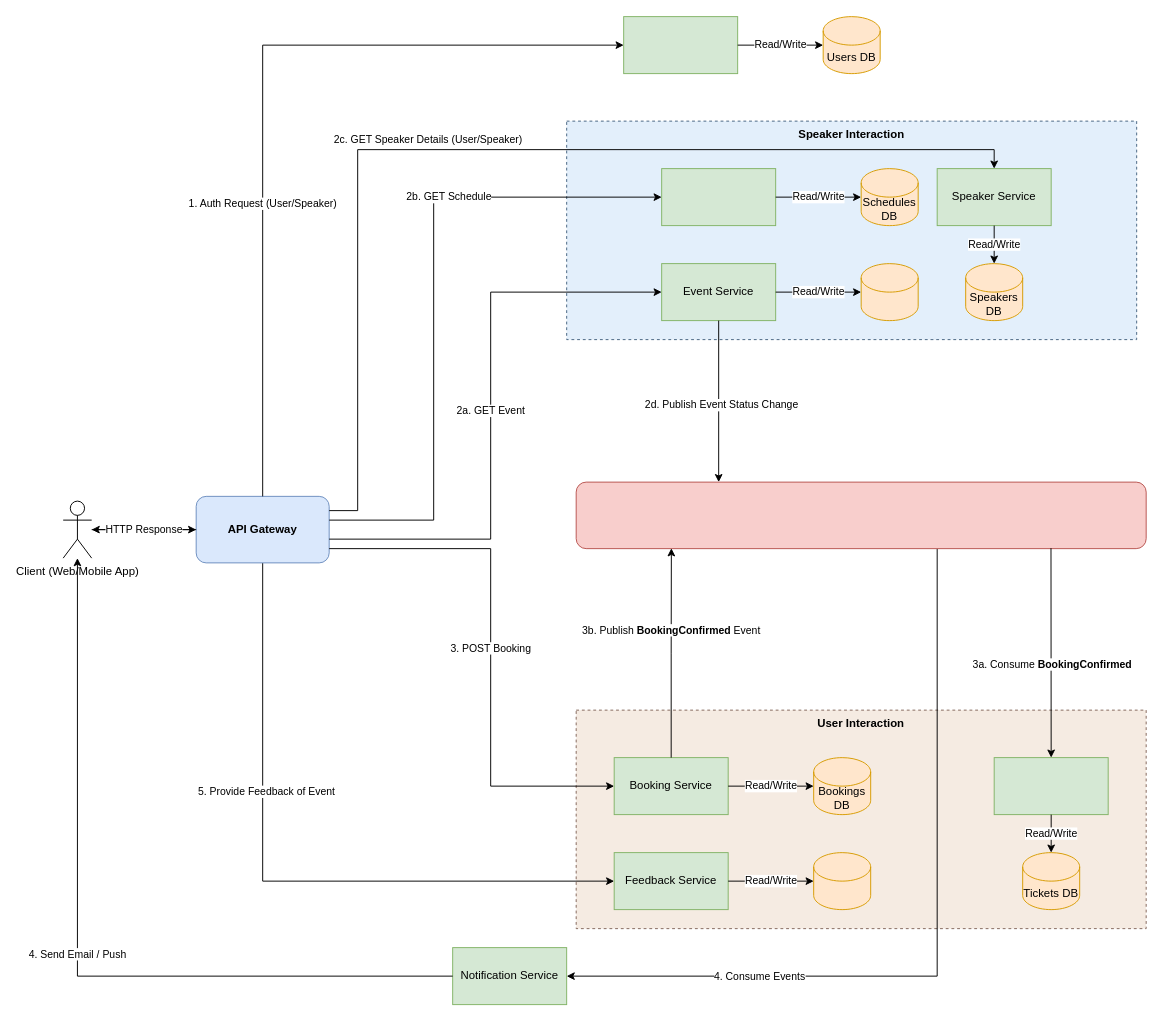
This 1163x1021 diagram has some shape labels left out. Here are the shapes that lost their labels. From the top down, the centre of each, then its label:
point (680, 45): Auth Service
point (718, 197): Schedule Service
point (889, 292): Events DB
point (860, 515): Asynchronous Message Bus
point (1050, 786): Ticket Service
point (842, 881): Feedback DB
